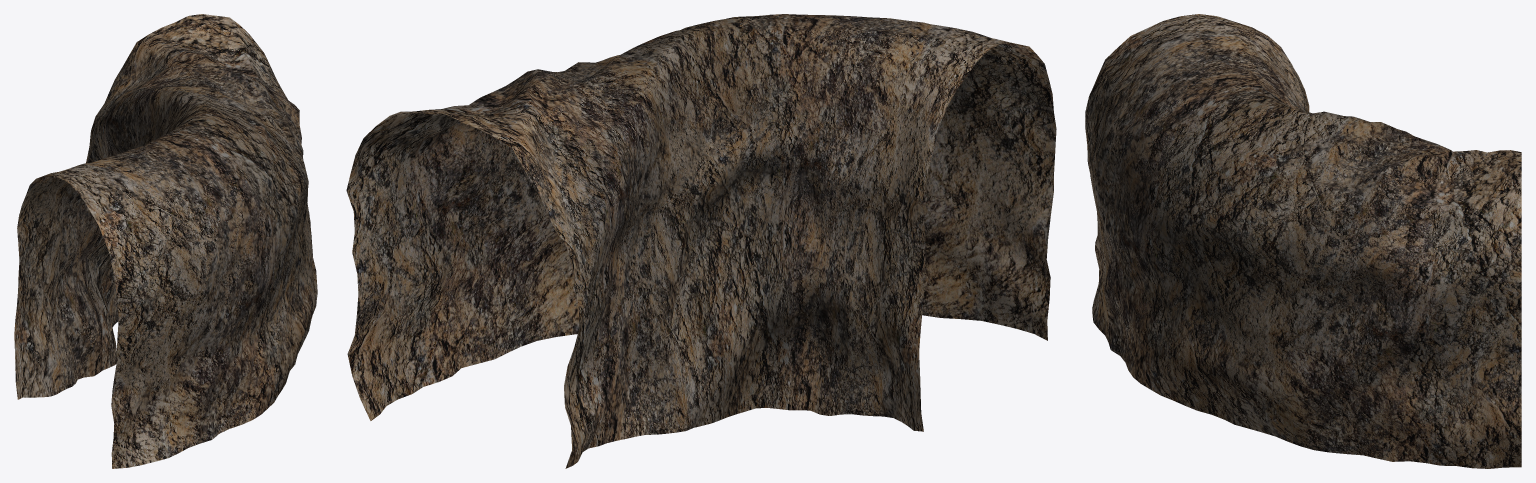
Rendered from rock_tunnel_bend.DAE.
The picture shows the model from 3 angles, left to right: view 1: azimuth 30°, elevation 25°; view 2: azimuth 150°, elevation 25°; view 3: azimuth 270°, elevation 25°; orthographic projection. The views are drawn at different scales.
Parts seen in each view (by area): view 1: Plane001; view 2: Plane001; view 3: Plane001.
Boxes of the visible parts, left/top/right/bottom form: Plane001: left=14, top=14, right=317, bottom=468; Plane001: left=346, top=14, right=1056, bottom=468; Plane001: left=1085, top=14, right=1521, bottom=468.
Size of the model in its own units: 6.86 by 4.91 by 6.89.
